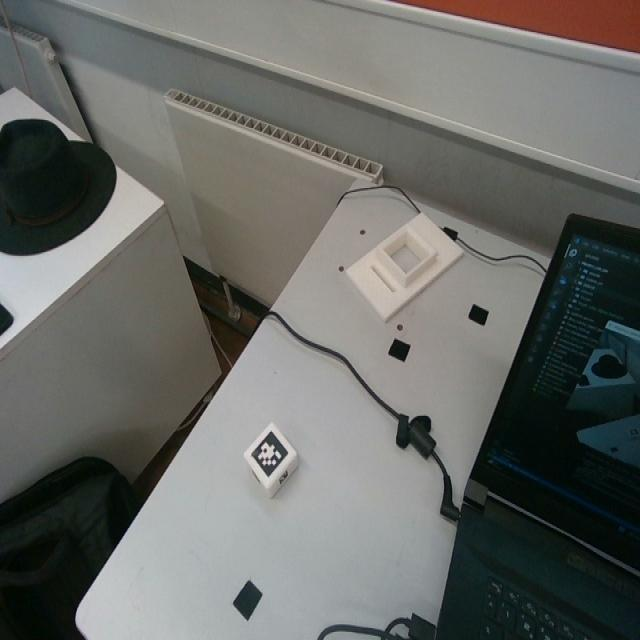Cube: (243, 422, 300, 498)
